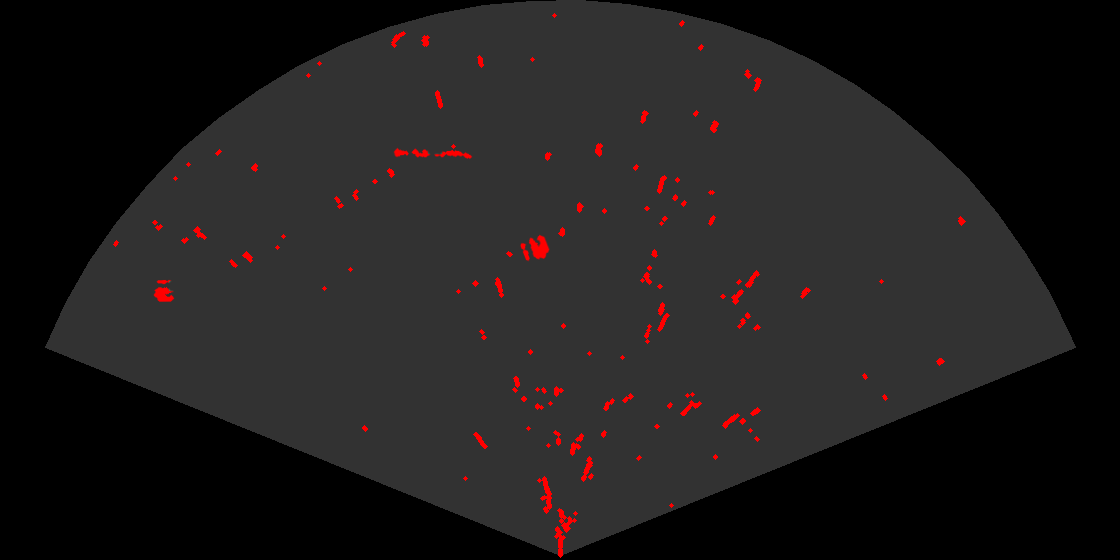ball: (519, 233, 551, 263), (152, 278, 176, 303)
chain: (393, 146, 473, 160)
